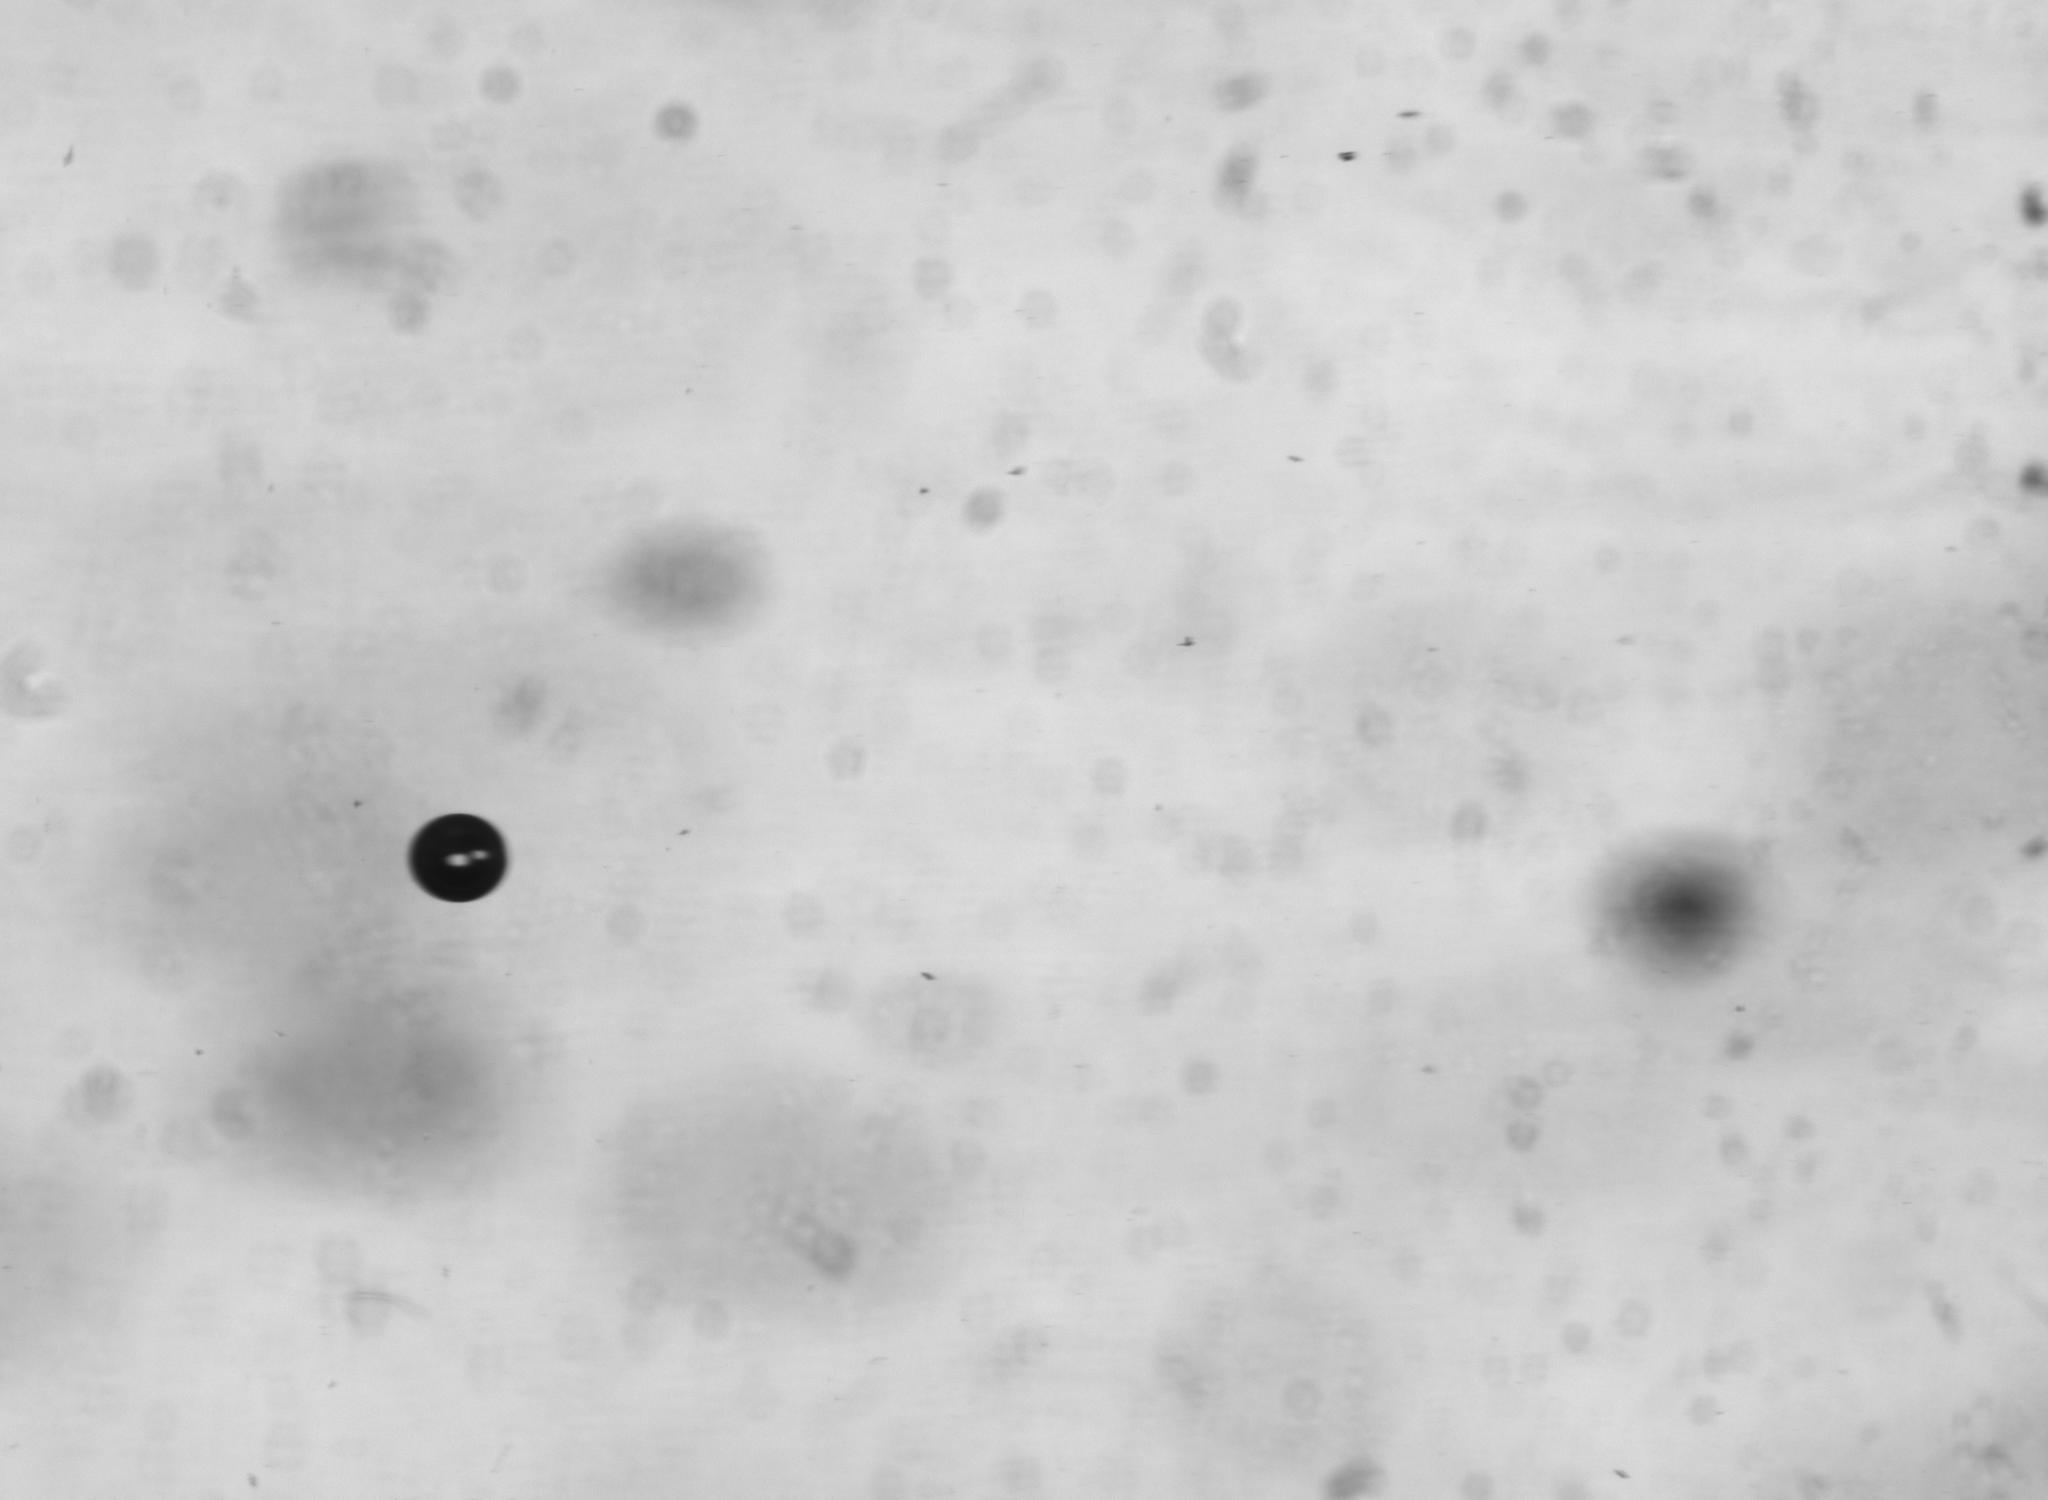bubble: (409, 814, 507, 902)
